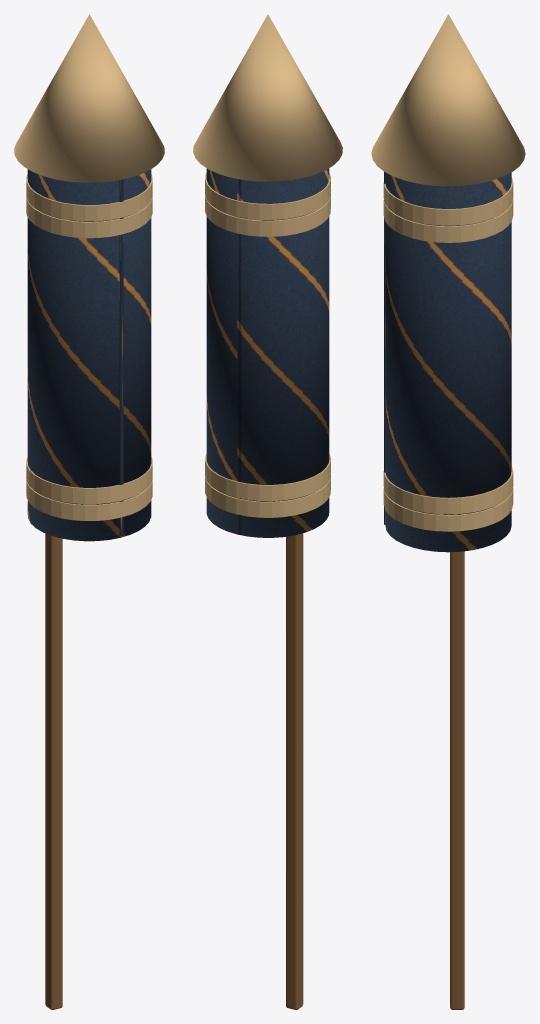
File: rocket.glb
3 renders of one model, left to right at view 1: azimuth 30°, elevation 25°; view 2: azimuth 150°, elevation 25°; view 3: azimuth 270°, elevation 25°, orthographic. The views are drawn at different scales.
Parts seen in each view (by area): view 1: Paper shell, Foil cap, Wooden guide, Foil band 4.55, Foil band 2.03, Foil band 4.40, Foil band 1.88, Paper overlap seam; view 2: Paper shell, Foil cap, Wooden guide, Foil band 4.55, Foil band 2.03, Foil band 1.88, Foil band 4.40; view 3: Paper shell, Foil cap, Wooden guide, Foil band 2.03, Foil band 4.55, Foil band 4.40, Foil band 1.88, Paper overlap seam.
Boxes of the visible parts, x1,y1,x2,y2 form: Paper shell: [27, 169, 151, 541]; Foil cap: [14, 14, 164, 182]; Wooden guide: [45, 533, 62, 1009]; Foil band 4.55: [26, 174, 152, 221]; Foil band 2.03: [26, 457, 152, 504]; Foil band 4.40: [26, 197, 152, 238]; Foil band 1.88: [26, 479, 152, 520]; Paper overlap seam: [119, 179, 123, 536]; Paper shell: [206, 168, 329, 537]; Foil cap: [193, 14, 342, 181]; Wooden guide: [286, 533, 303, 1009]; Foil band 4.55: [205, 173, 330, 219]; Foil band 2.03: [205, 454, 330, 501]; Foil band 1.88: [205, 474, 330, 517]; Foil band 4.40: [205, 193, 330, 236]; Paper shell: [385, 172, 511, 552]; Foil cap: [371, 14, 525, 186]; Wooden guide: [450, 551, 464, 1009]; Foil band 2.03: [383, 466, 513, 514]; Foil band 4.55: [383, 177, 513, 225]; Foil band 4.40: [383, 199, 513, 242]; Foil band 1.88: [383, 488, 513, 531]; Paper overlap seam: [384, 172, 385, 524].
Bounding box in the file's own units: 1.22 × 8.81 × 1.22.
Materials: 3 (1 with a texture image).
